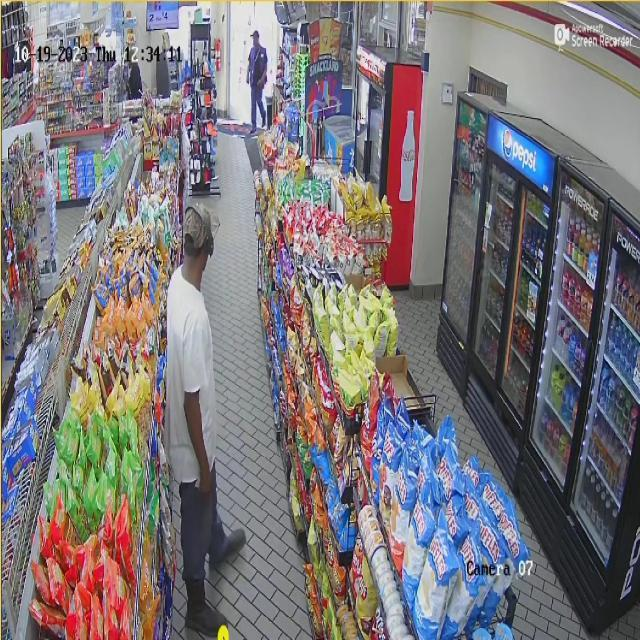Normal: (164, 177, 244, 640), (242, 24, 274, 142)
